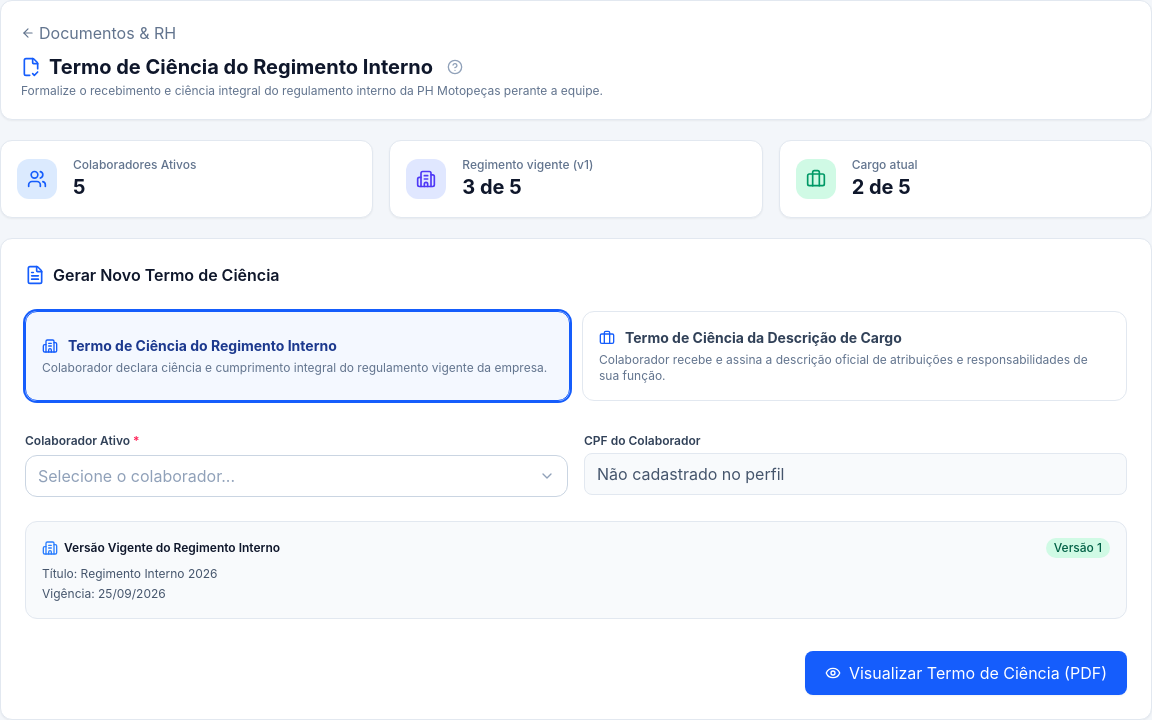
Scenario: AcknowledgmentDocumentPage › renders compliance banner, mode buttons and employee selector
Expected: the heading "Termo de Ciência do Regimento Interno" is shown, [21,53,433,81]
Expected: the text "Colaboradores Ativos" is shown, [73,157,196,173]
Click the dropdown named "Colaborador Ativo" at (137, 476), box [25,455,568,497]
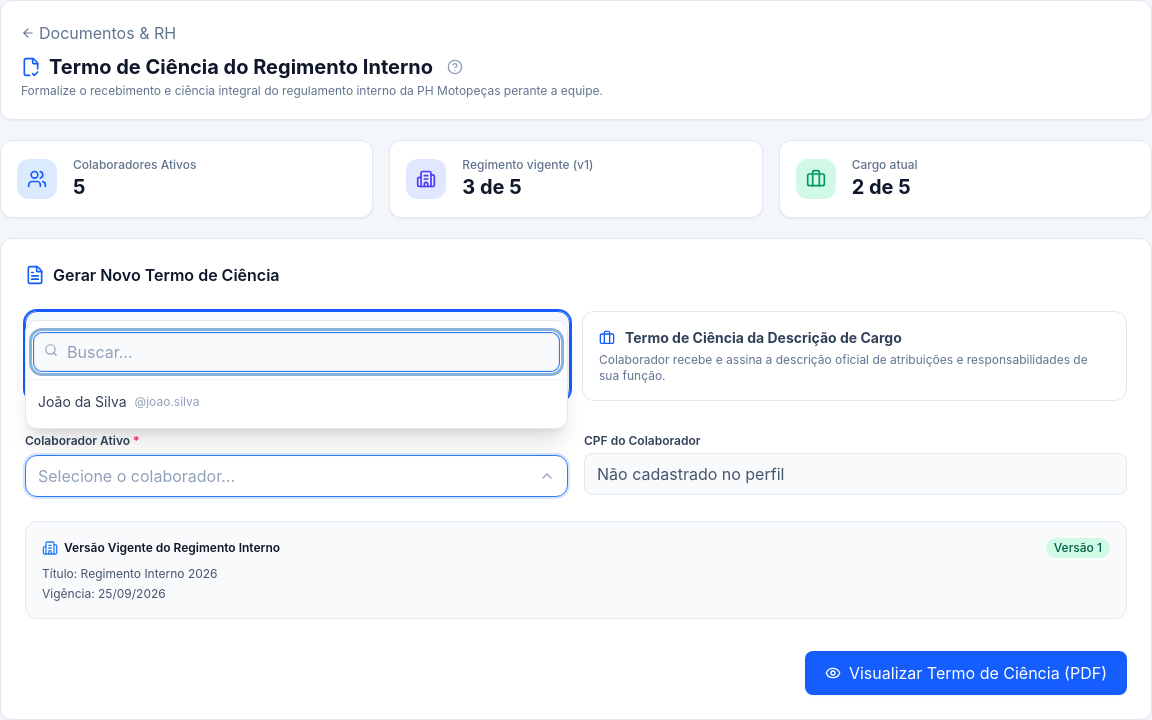
Result: the option "João da Silva @joao.silva" is shown at [38,393,199,410]
